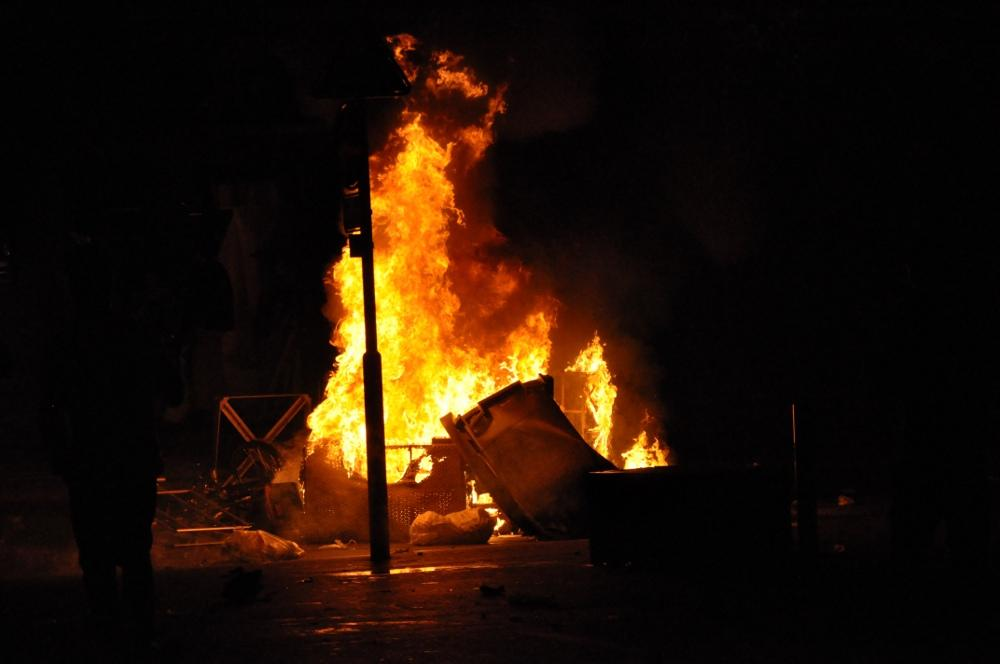fire: (380, 165, 455, 443), (470, 300, 617, 407), (315, 258, 360, 467)
